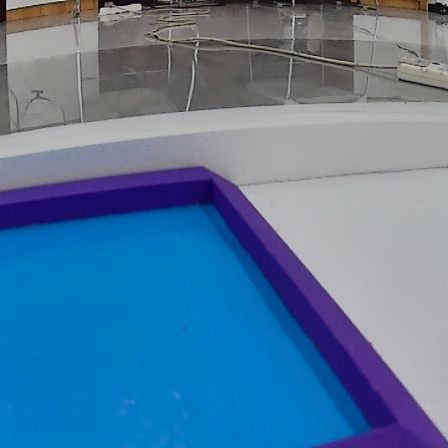blue_aim: (2, 159, 448, 448)
